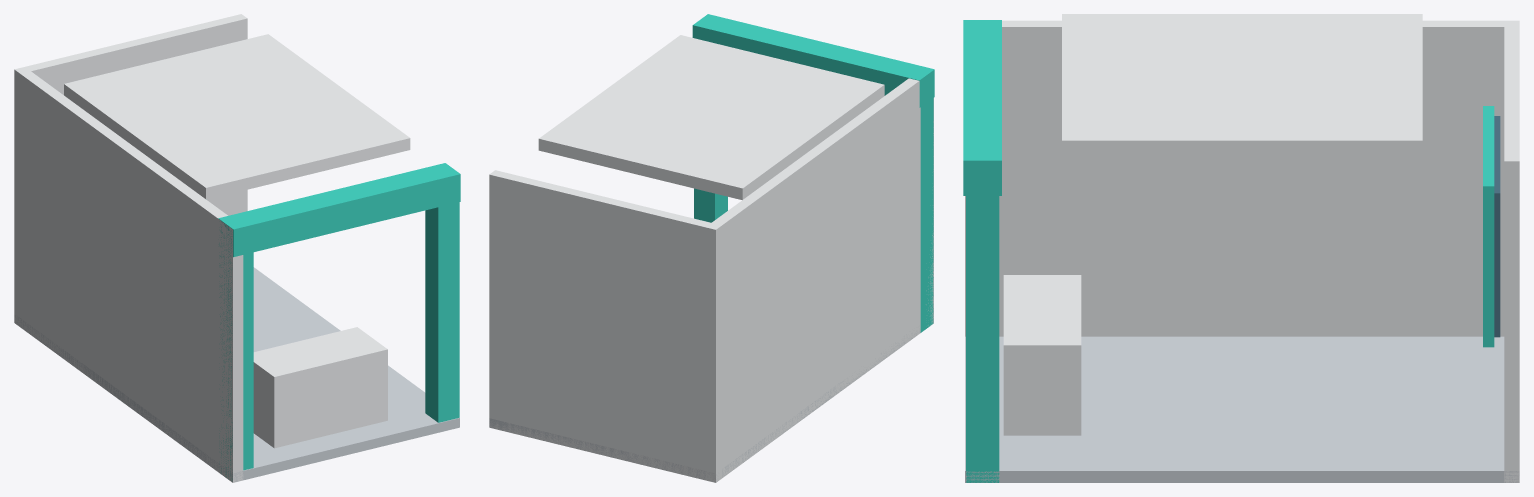
3 renders of one model, left to right at view 1: azimuth 30°, elevation 25°; view 2: azimuth 150°, elevation 25°; view 3: azimuth 270°, elevation 25°, orthographic. The views are drawn at different scales.
Visible parts, largest first — view 1: Exhibition Booth Concept; view 2: Exhibition Booth Concept; view 3: Exhibition Booth Concept.
Part boxes in pixels (x1,y1,x2,y2): Exhibition Booth Concept: (14, 14, 460, 482); Exhibition Booth Concept: (489, 14, 934, 482); Exhibition Booth Concept: (963, 14, 1519, 482).
Bounding box in the file's own units: 3 × 3.34 × 5.02.
